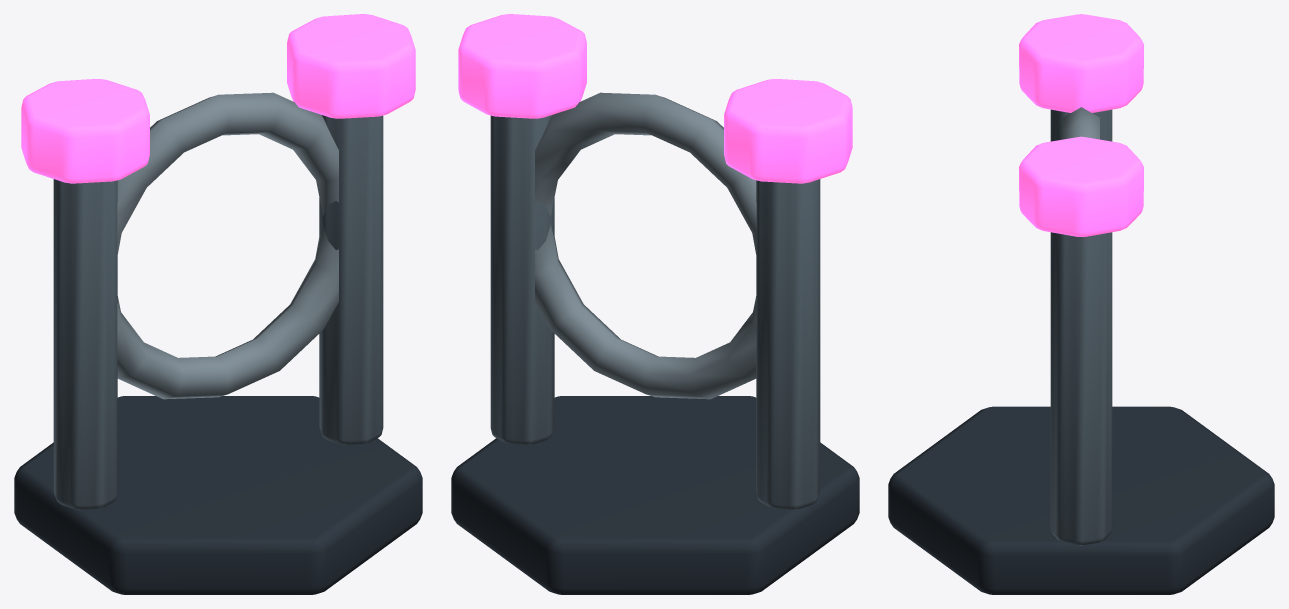
The model's file is enemy_role_jammer.fbx.
3 views of the same model, side by side, from view 1: azimuth 30°, elevation 25°; view 2: azimuth 150°, elevation 25°; view 3: azimuth 270°, elevation 25° (orthographic). The views are drawn at different scales.
Parts seen in each view (by area): view 1: enemy_role_jammer_Geometry; view 2: enemy_role_jammer_Geometry; view 3: enemy_role_jammer_Geometry.
Part boxes in pixels (x1,y1,x2,y2): enemy_role_jammer_Geometry: (14,14,422,594); enemy_role_jammer_Geometry: (451,14,859,594); enemy_role_jammer_Geometry: (888,14,1274,594).
Bounding box in the file's own units: 0.4862 × 0.555 × 0.4527.
